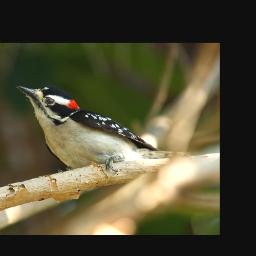Woodpecker: (15, 80, 193, 176)
